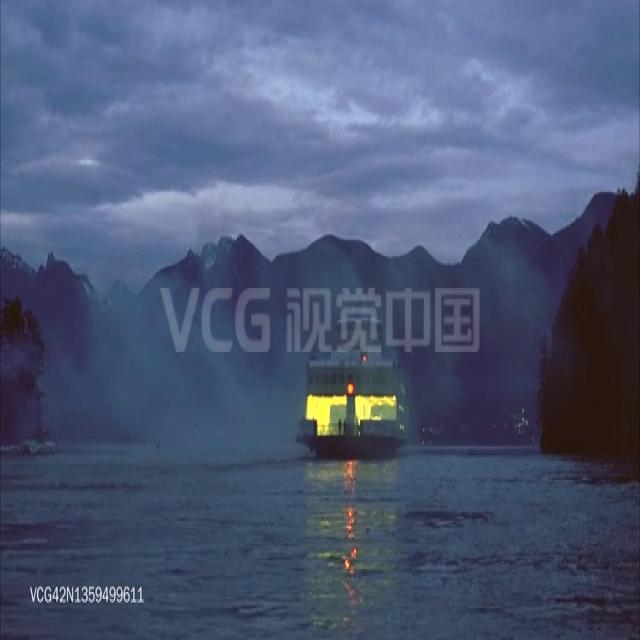passenger ship: (298, 298, 409, 457)
